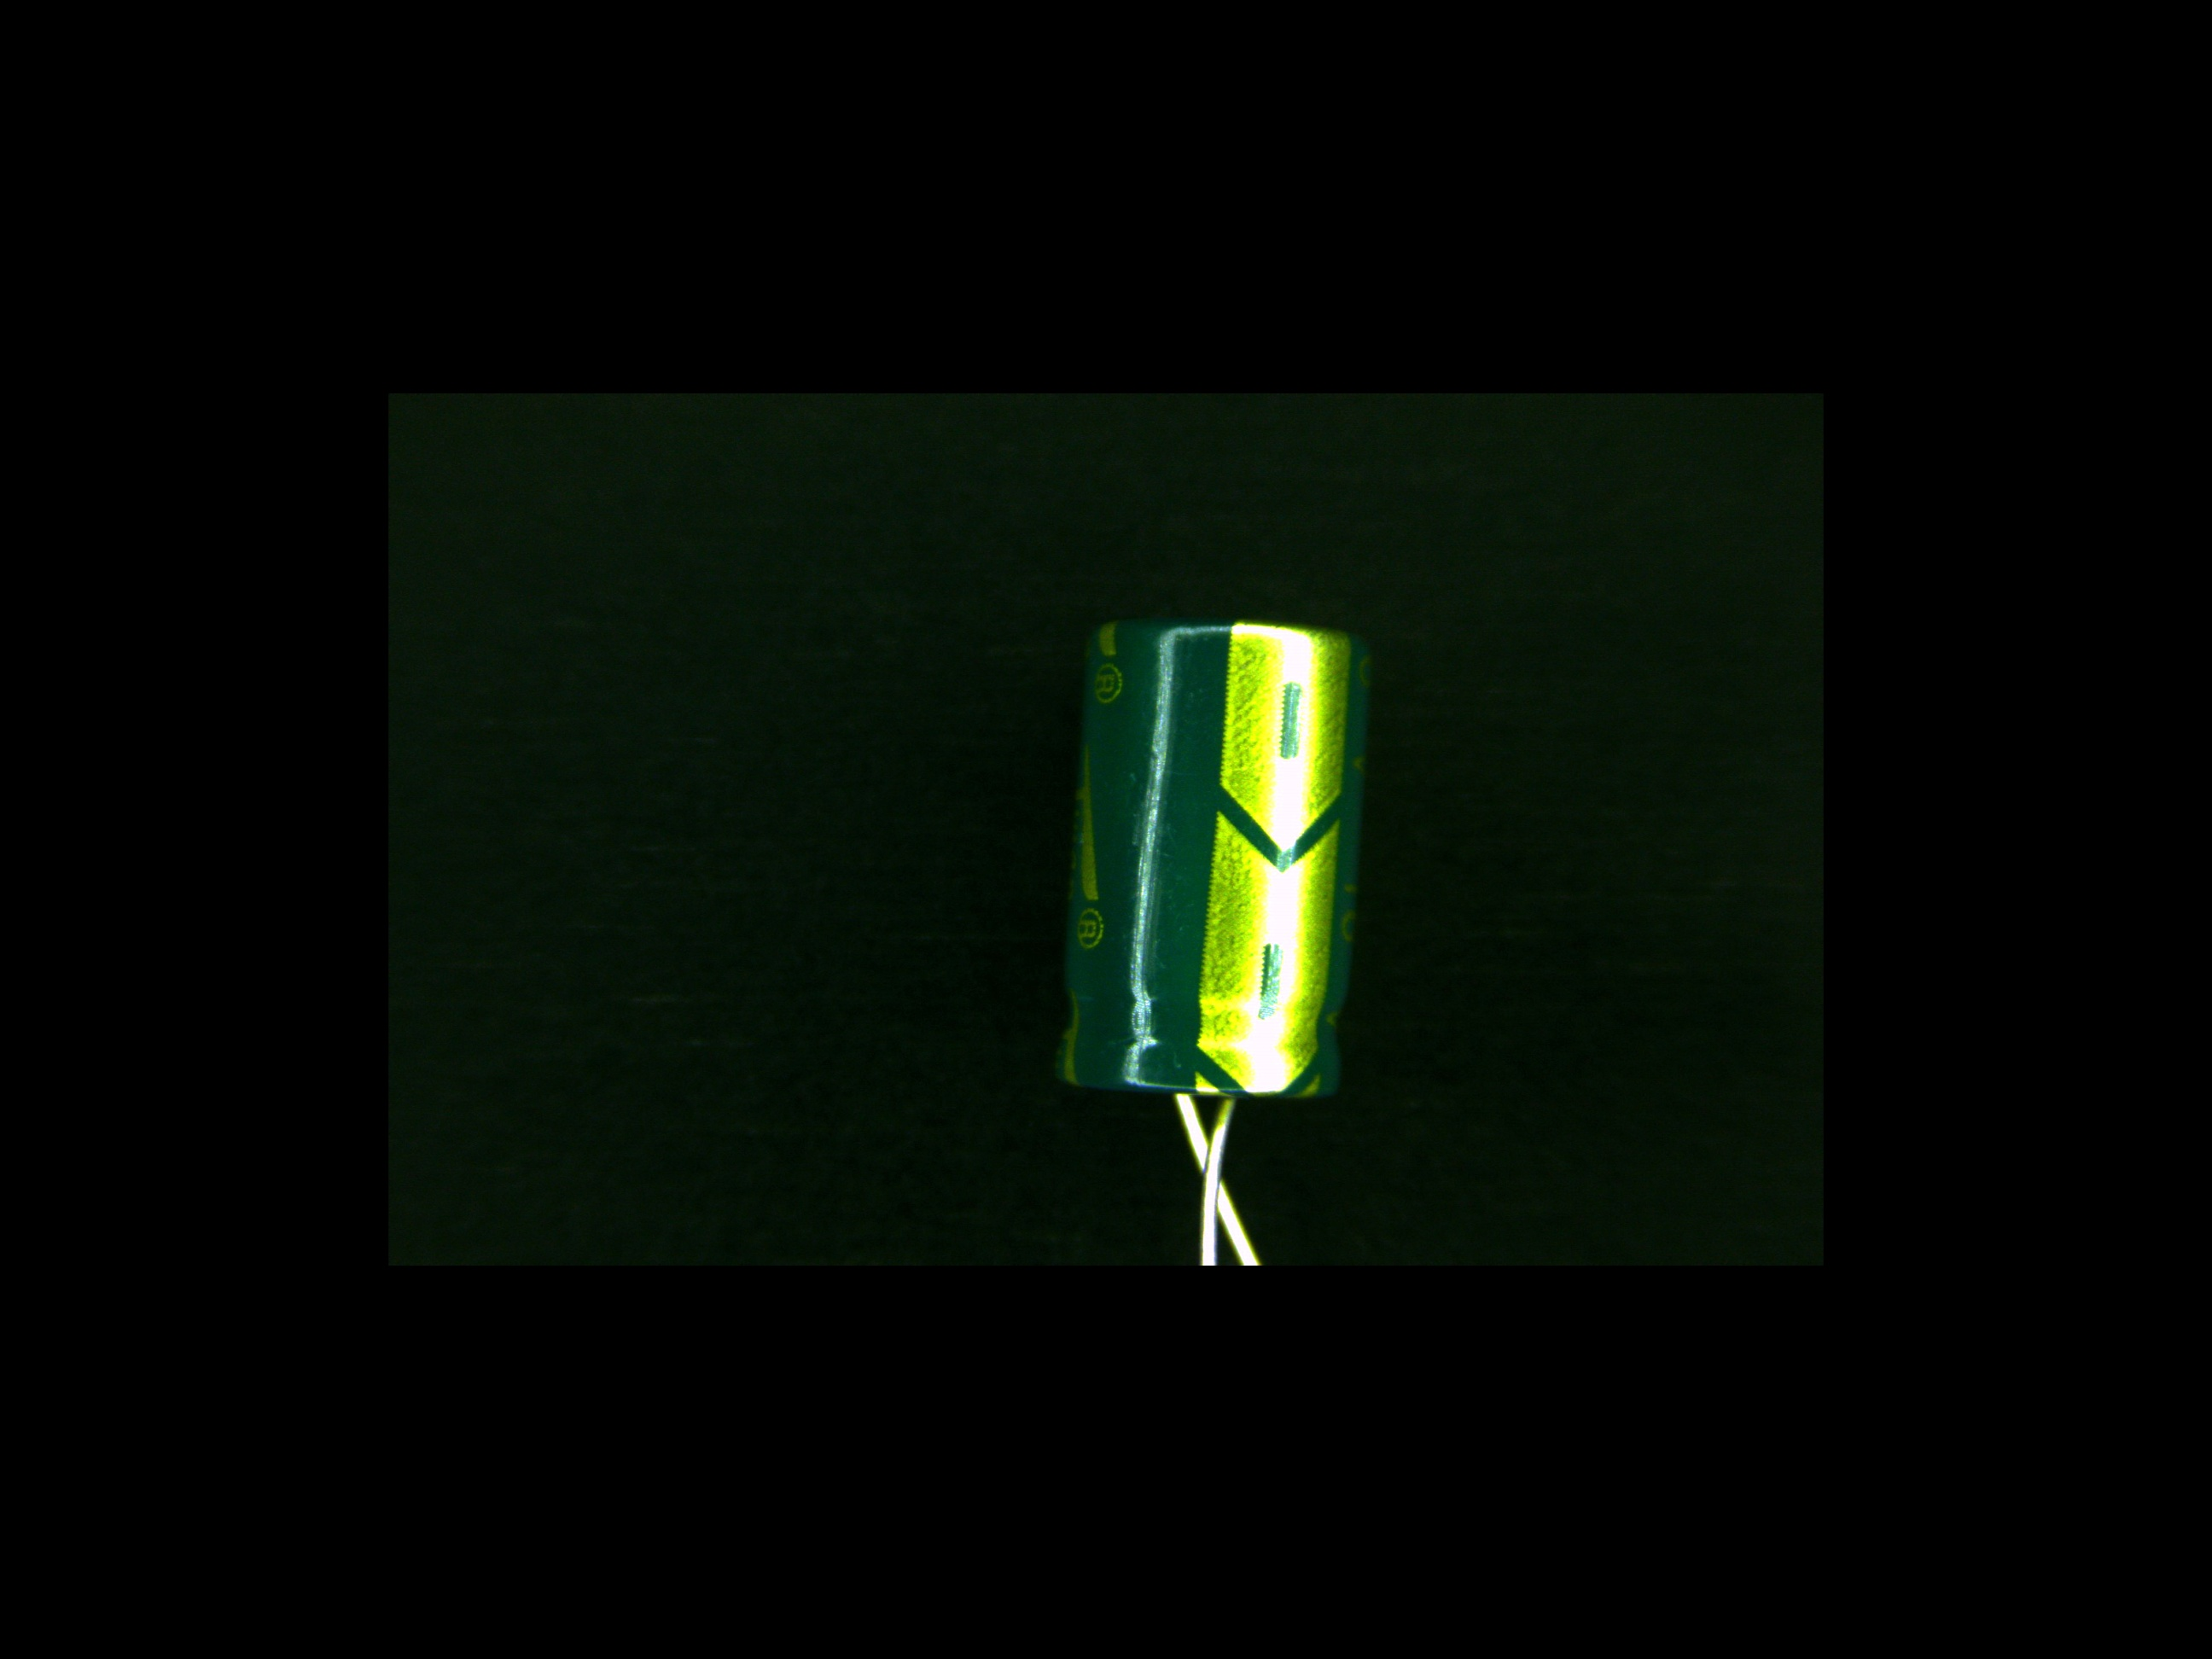c1: (1052, 619, 1374, 1145)
